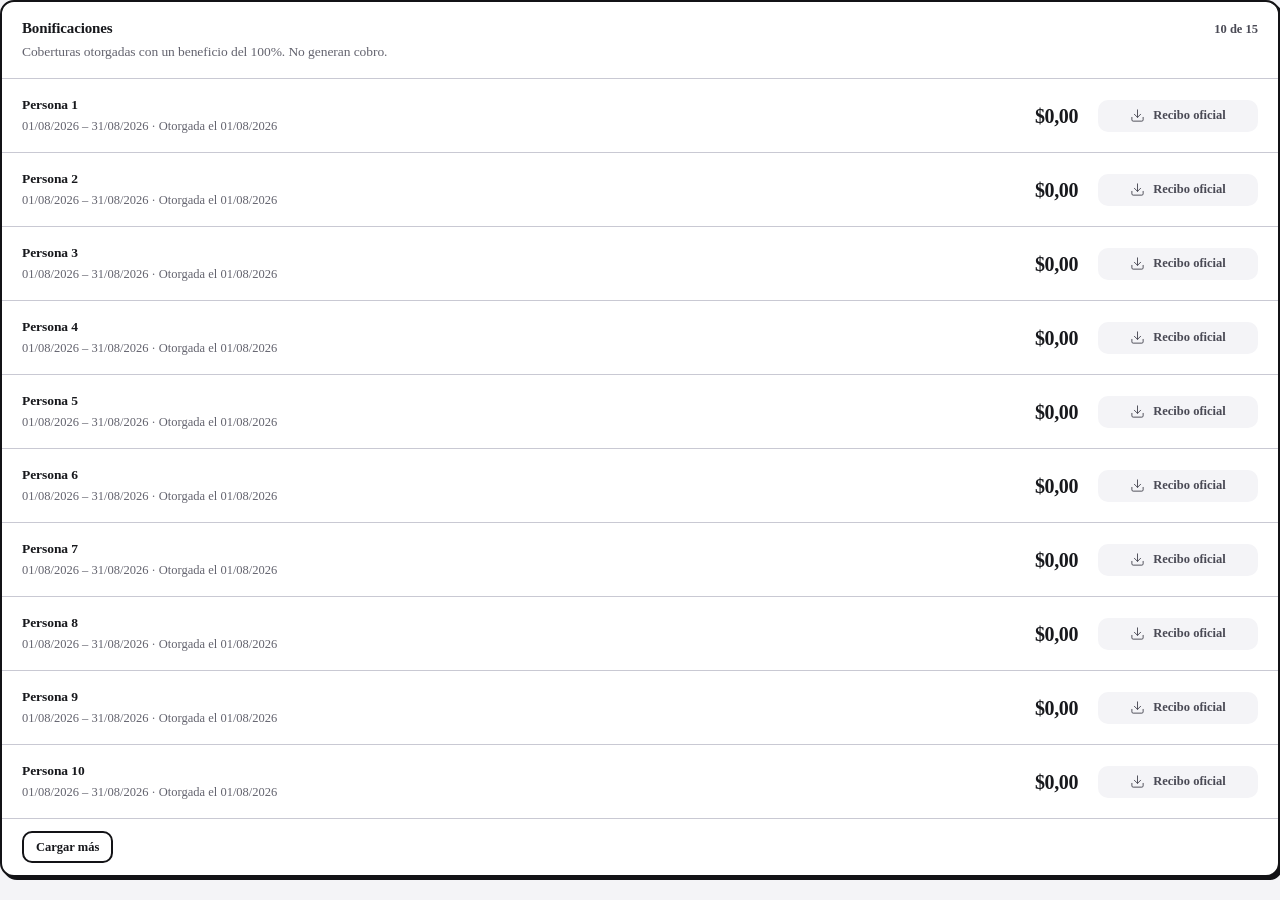
Test: BonificacionesSection (admin review) › pagination › loads the next page and appends it while total exceeds what is shown
Expected: the text "Persona 1" is shown, [22,97,78,112]
Click the button "Cargar más" at (68, 847), box [22,831,113,863]
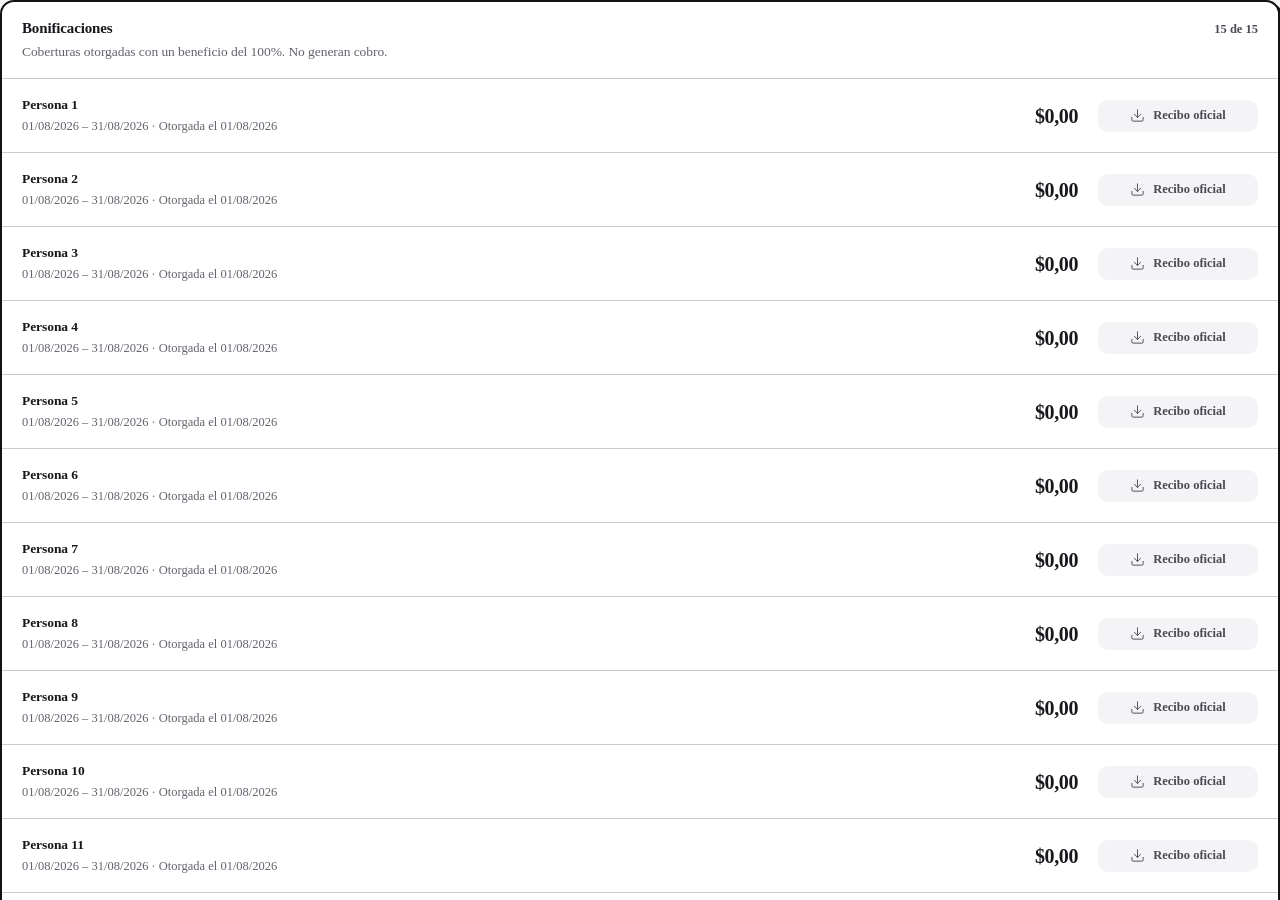
Expected: the text "Persona 1" is shown, [22,97,78,112]
Now the button "Cargar más" is gone
